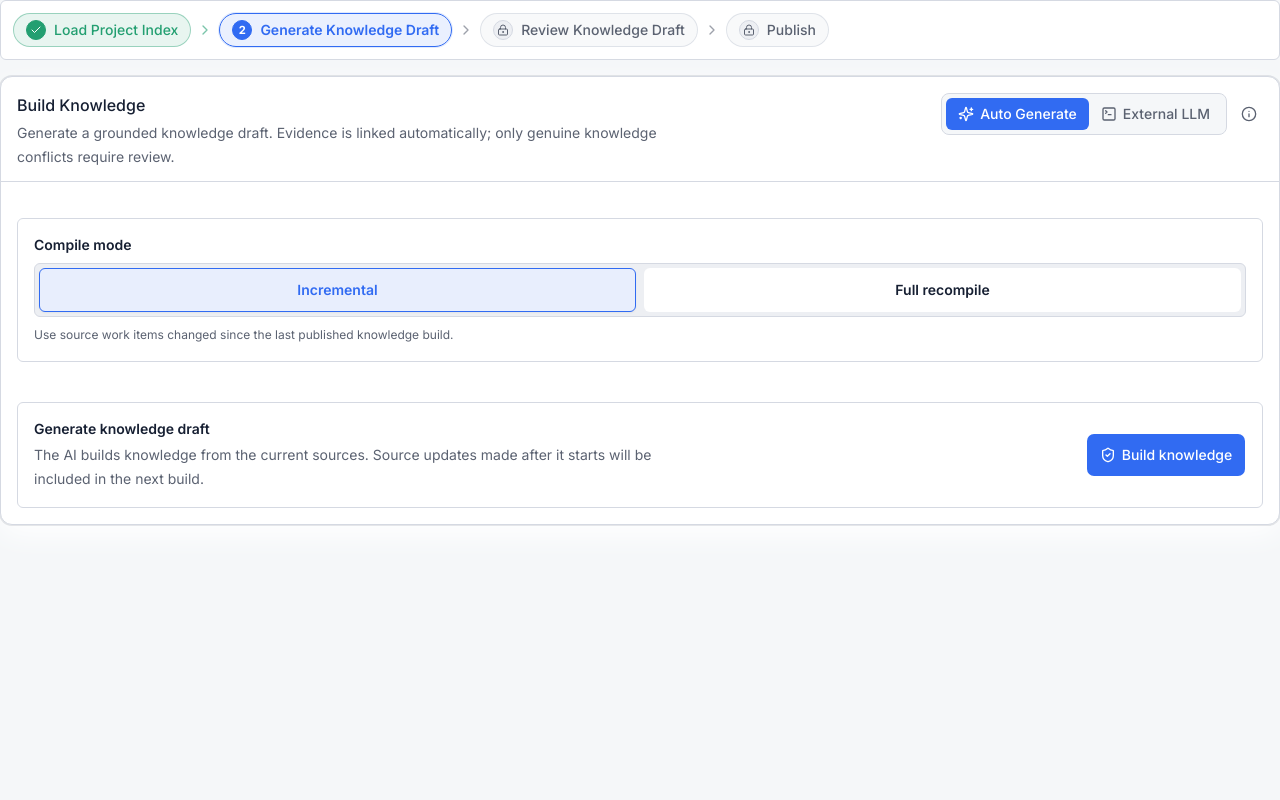
Project Knowledge conflict review › shows the generation-unavailable callout with retry when the build returns 503
Click the button "Build knowledge".
click(1166, 455)  # box [1086, 433, 1246, 477]
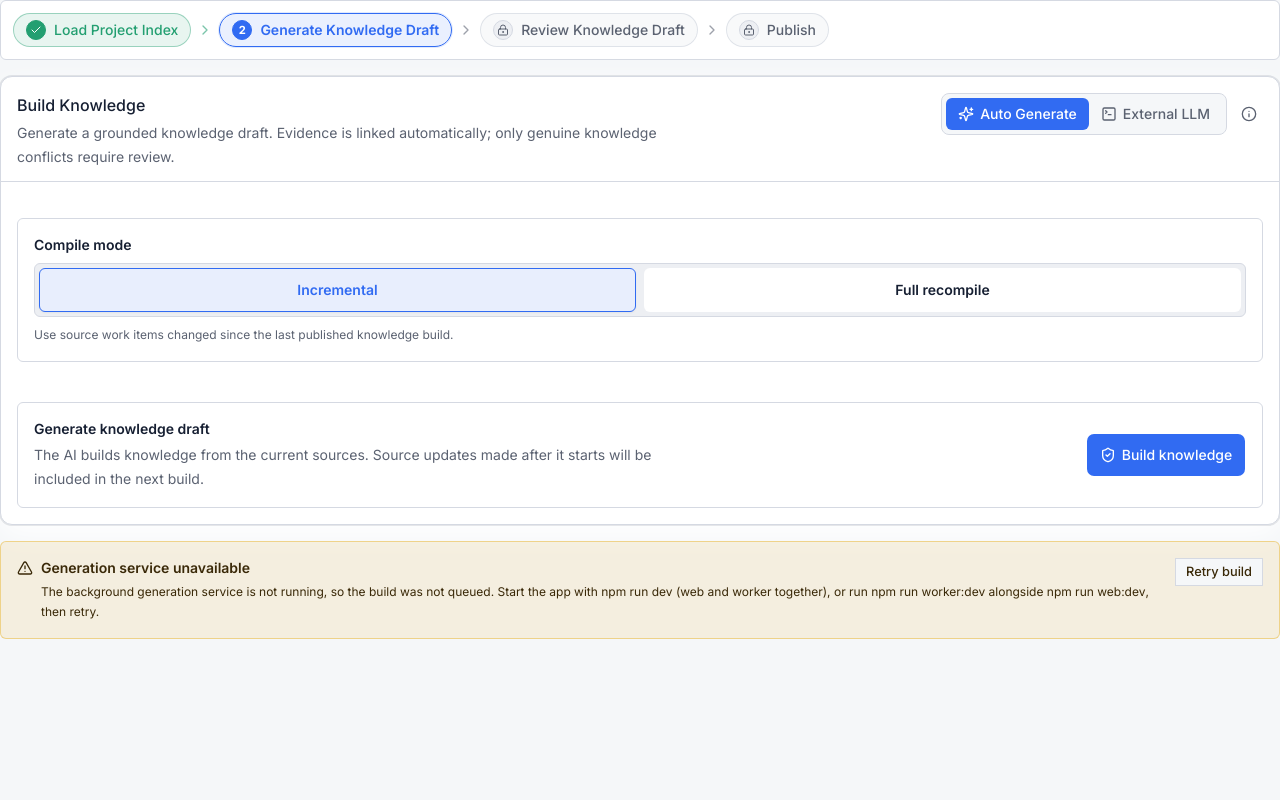
Result: the text "Generation service unavailable" is shown at [41, 559, 250, 576]
Result: the text "the build was not queued" is shown at [41, 584, 601, 599]
Click the button "Retry build".
click(1219, 572)  # box [1175, 558, 1263, 586]
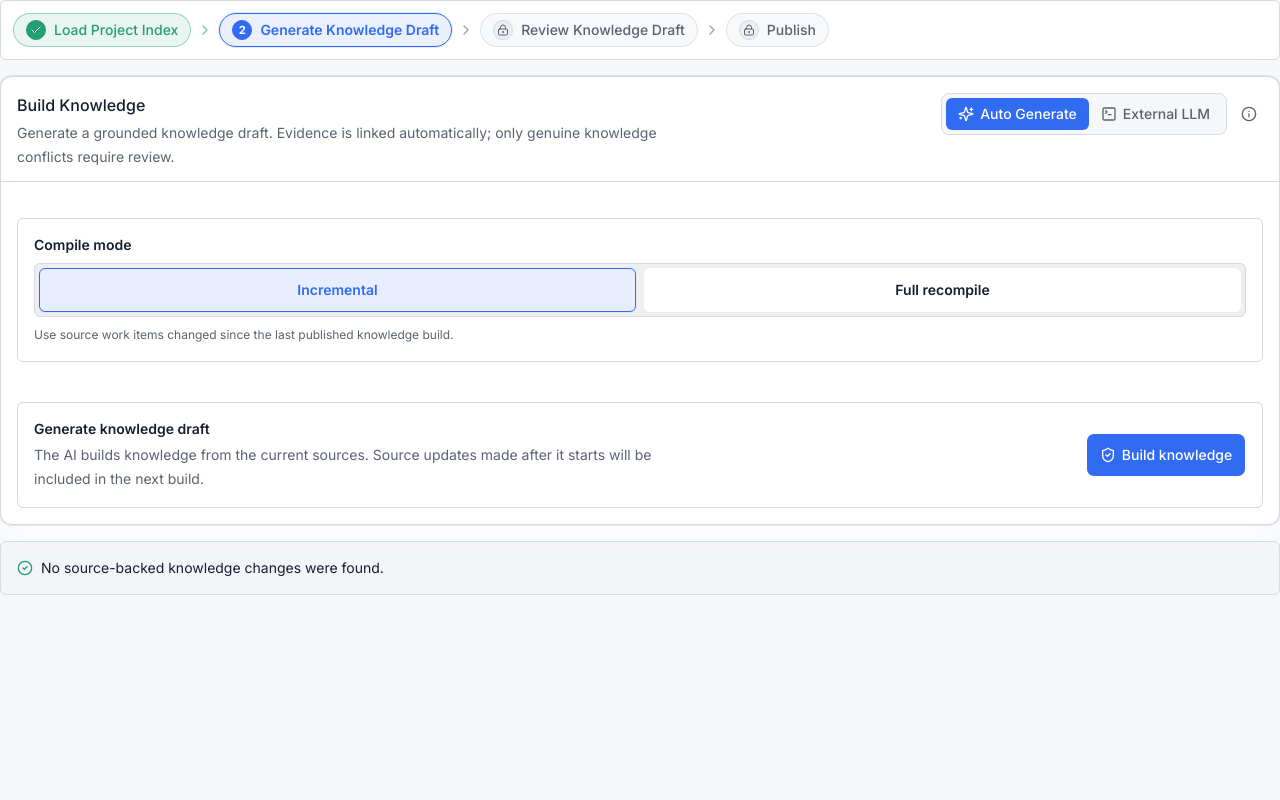
Result: the text "Generation service unavailable" is gone
